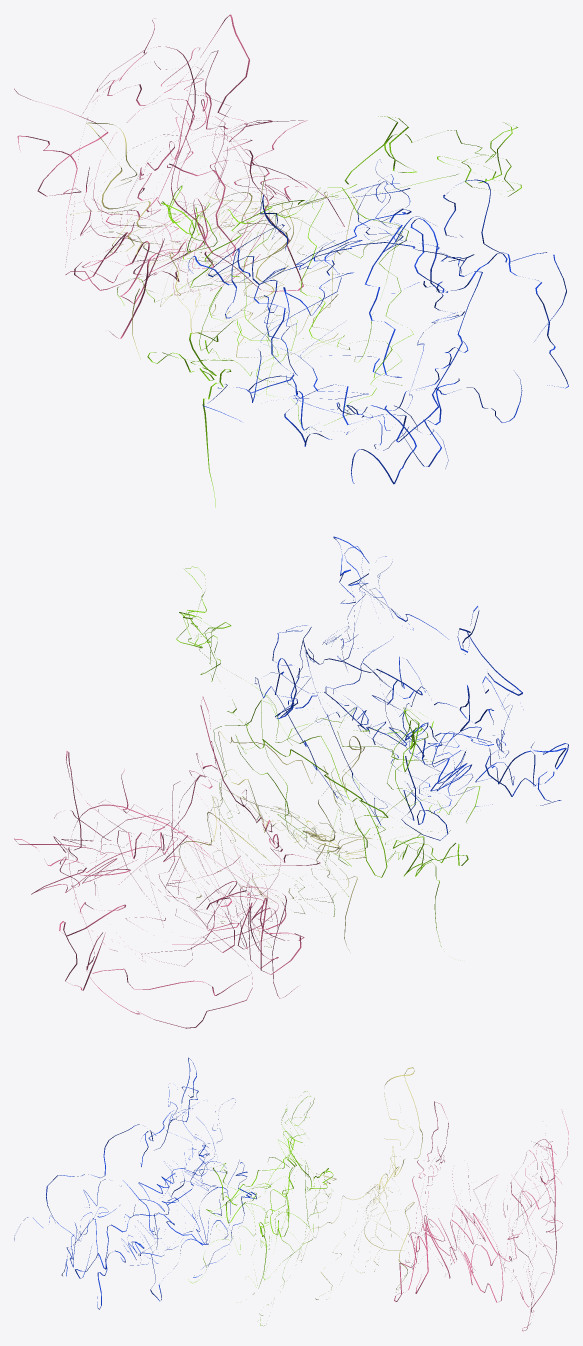
3 views of the same model, one above another, from view 1: azimuth 30°, elevation 25°; view 2: azimuth 150°, elevation 25°; view 3: azimuth 270°, elevation 25° (orthographic). The views are drawn at different scales.
Bounding box in the file's own units: 1.09 × 1.03 × 1.96.
